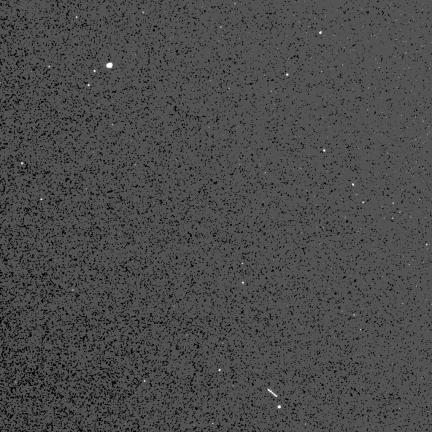blob: (106, 63, 112, 68), (319, 31, 323, 35), (278, 405, 281, 409), (323, 149, 326, 153), (352, 184, 355, 187), (242, 282, 245, 285), (286, 73, 289, 76), (22, 162, 24, 165), (94, 70, 96, 73), (88, 84, 90, 87), (41, 199, 43, 201)
